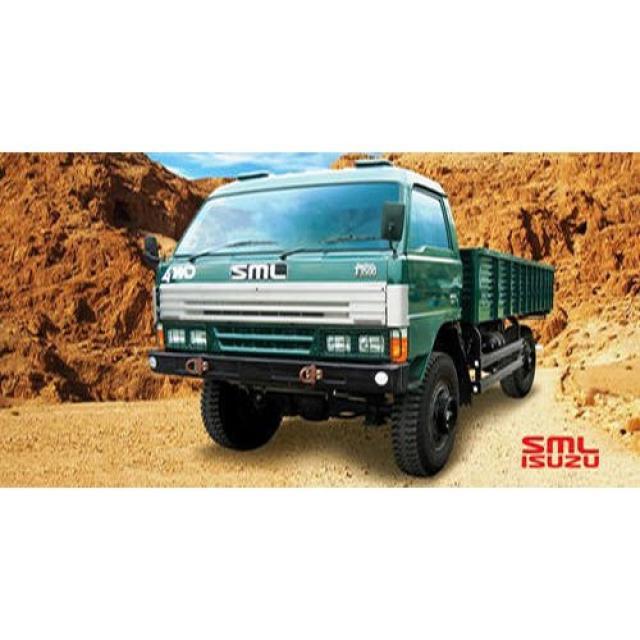truck: (150, 160, 554, 476)
